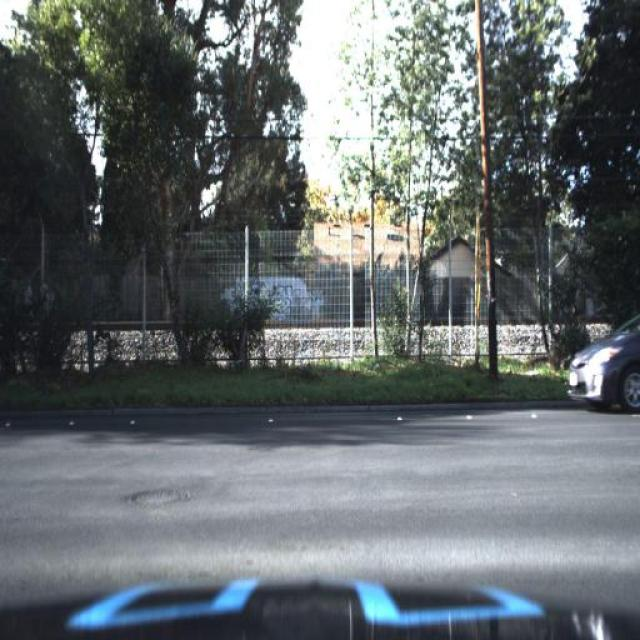car: (562, 310, 639, 410)
